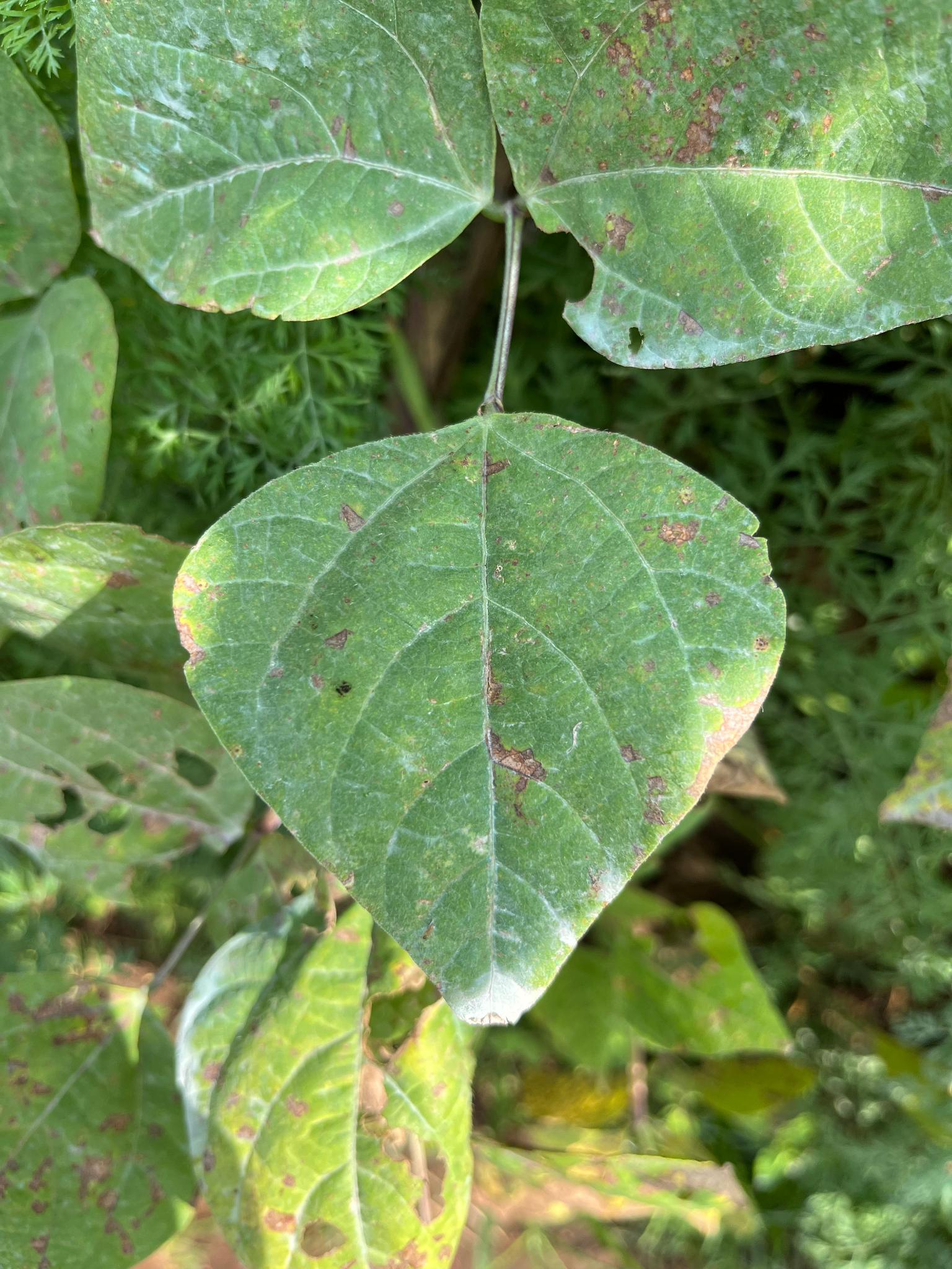embun tepung: (417, 817, 648, 1046)
hawar: (239, 433, 517, 721), (453, 603, 567, 848), (614, 487, 748, 649)
